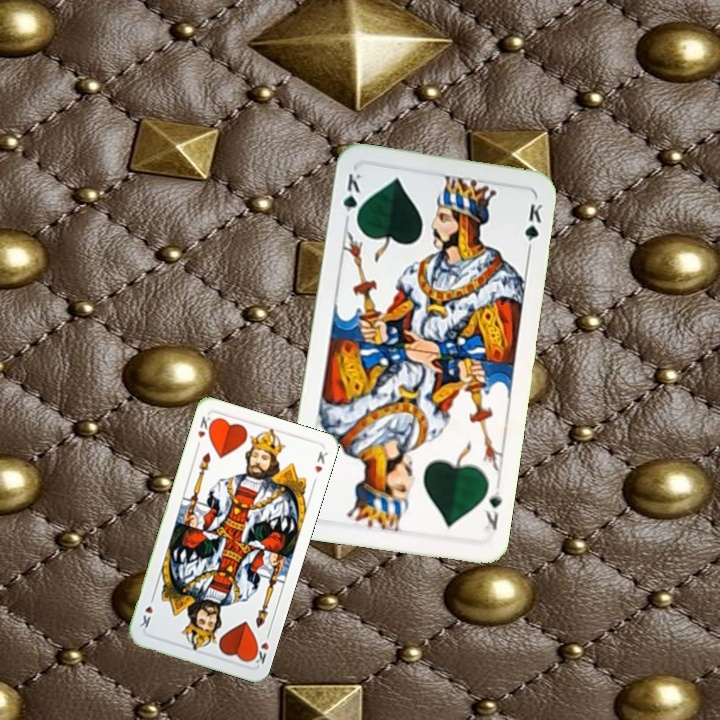GK: (338, 169, 364, 227), (480, 481, 504, 532)
HK: (192, 412, 216, 451), (248, 637, 271, 666)
